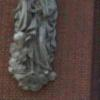Statue: (8, 1, 64, 91)
